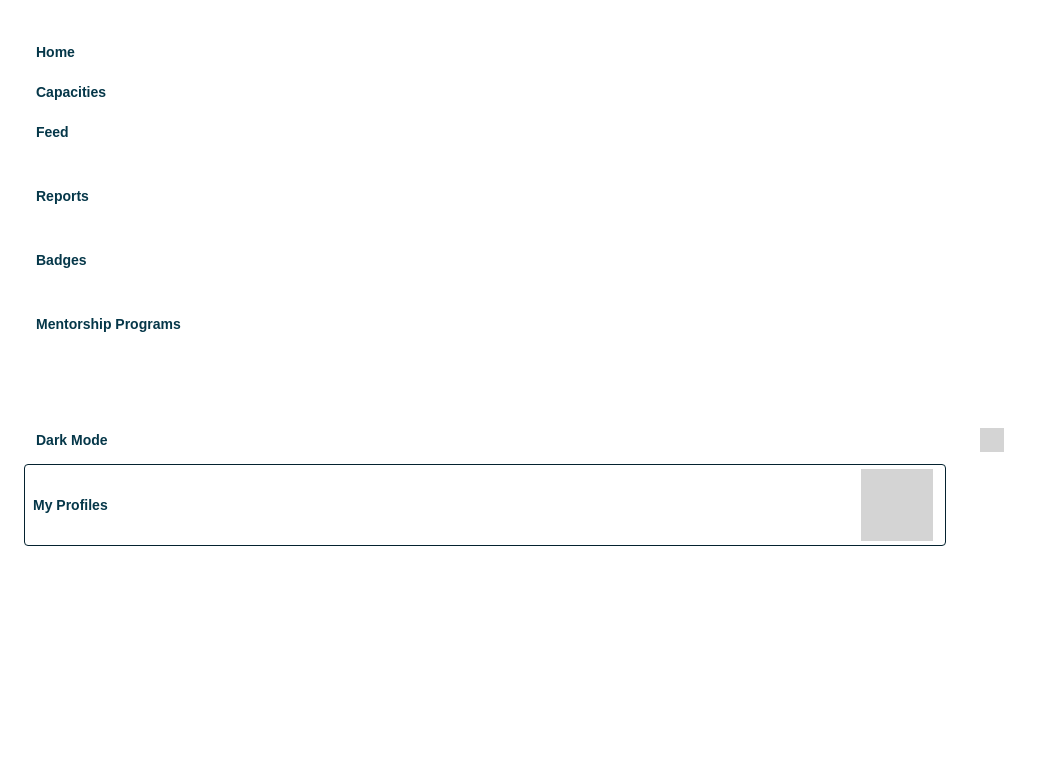
it: MobileMenuLinks › renders organization profiles for org managers
Click the button "My Profiles": click(70, 505) [24,464,946,546]
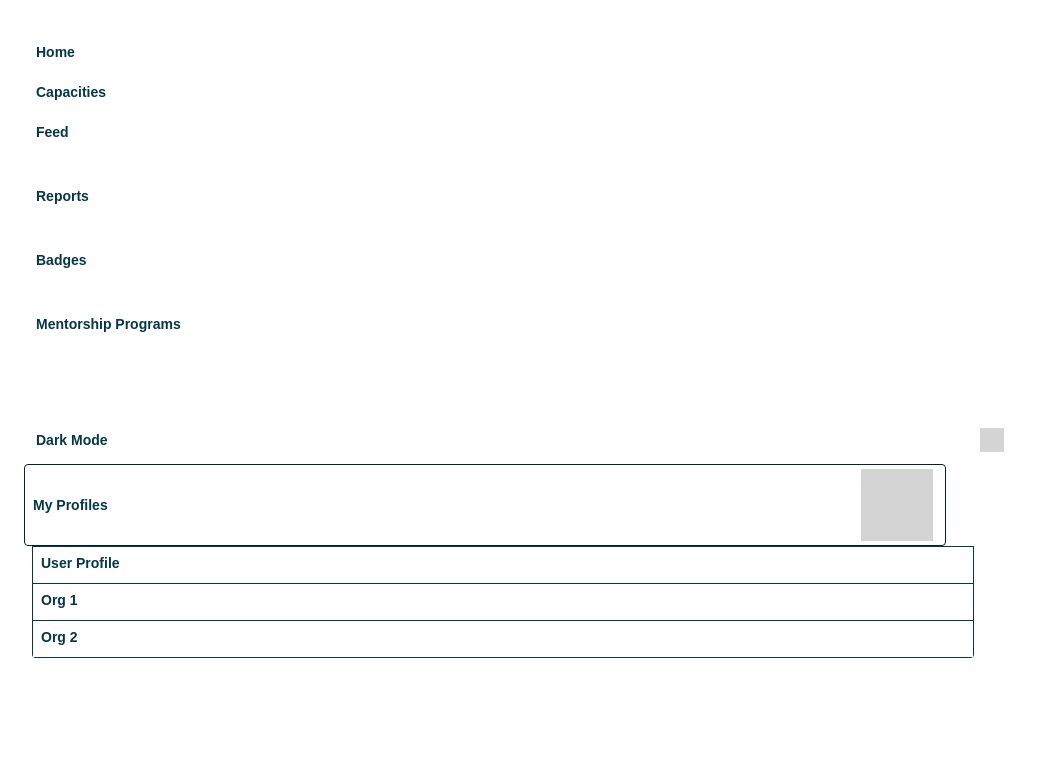
Now the text "Org 1" is shown, box [41,592,78,608]
Now the text "Org 2" is shown, box [41,629,78,645]
